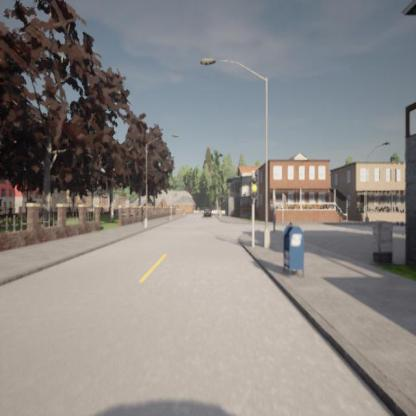traffic_light_orange: (250, 175, 258, 200)
